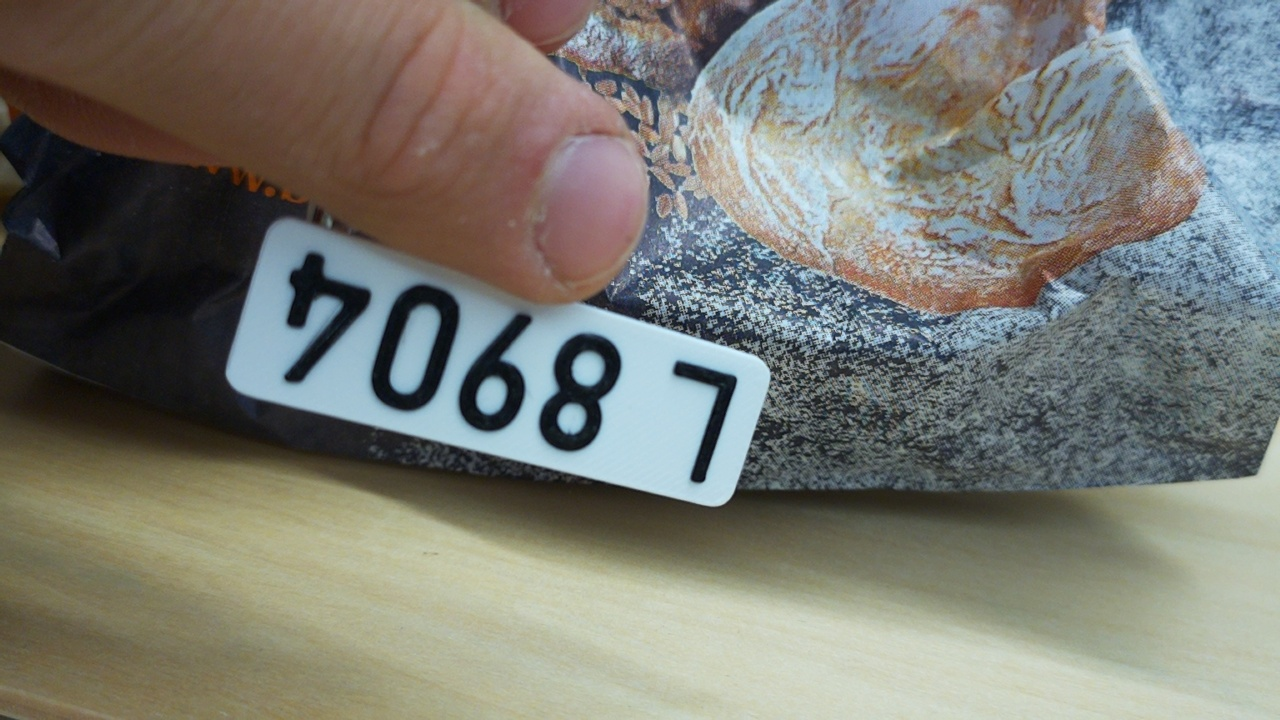license_plate: (221, 211, 773, 509)
